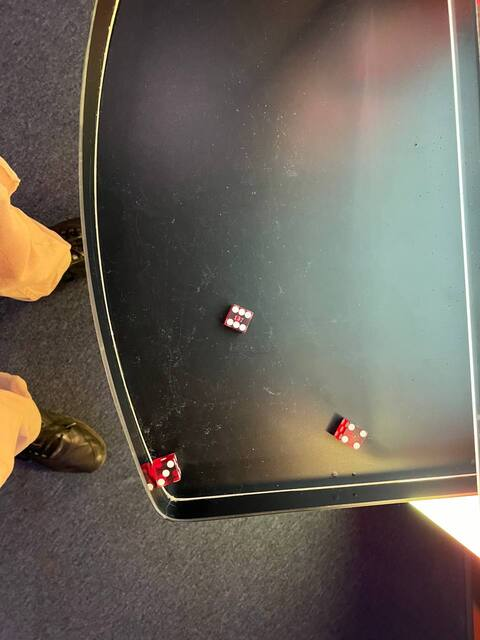four: (336, 419, 372, 453)
six: (220, 301, 257, 335)
three: (150, 455, 185, 490)
